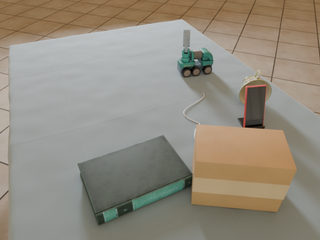book: (78, 135, 192, 225)
box: (191, 125, 297, 212)
cup: (239, 70, 271, 104)
phone: (243, 85, 266, 128)
toy_car: (177, 30, 213, 77)
